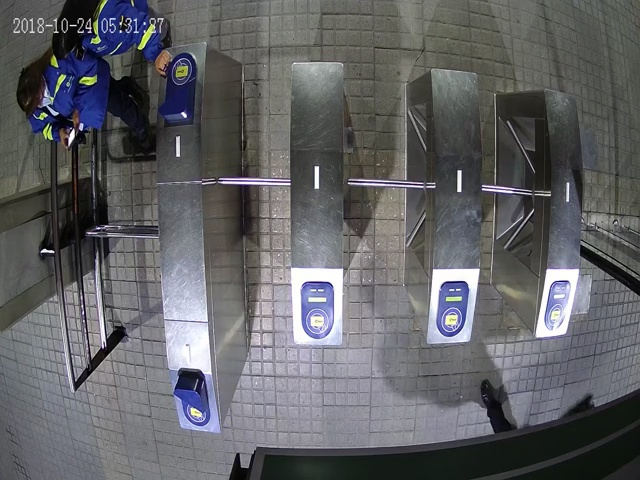Chaleco_azul: (15, 47, 150, 144), (50, 1, 172, 76)
